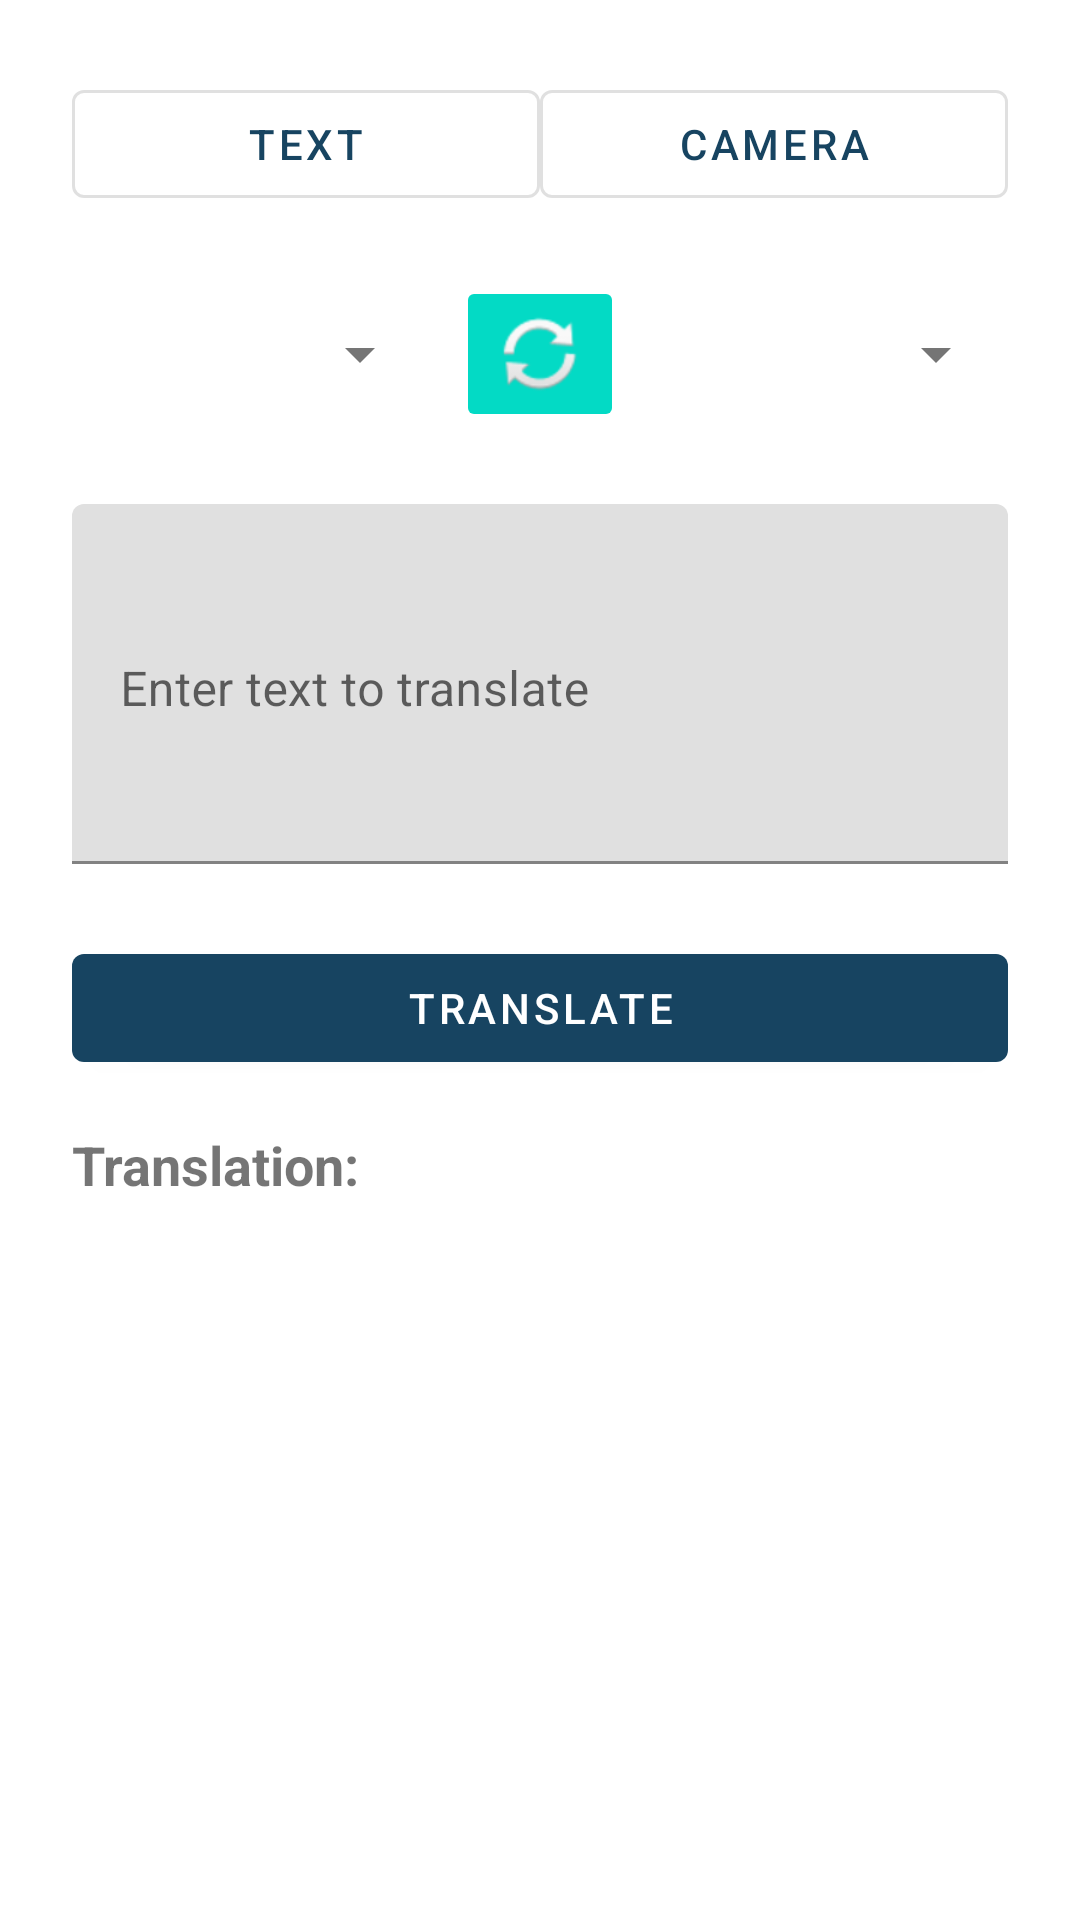

Point at icon controls on the screen. Image size 1080w x 1920h, points as point (x, y).
Swap Languages: point (540, 354)
